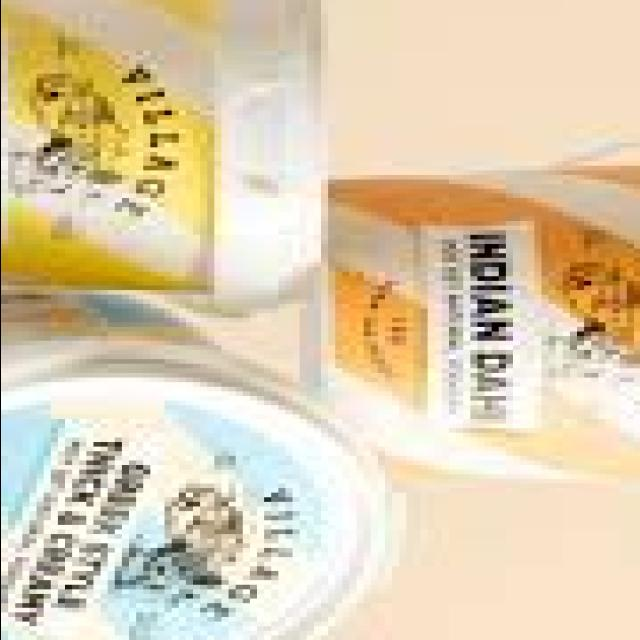yoghurt: (0, 290, 417, 640), (306, 162, 640, 484)
